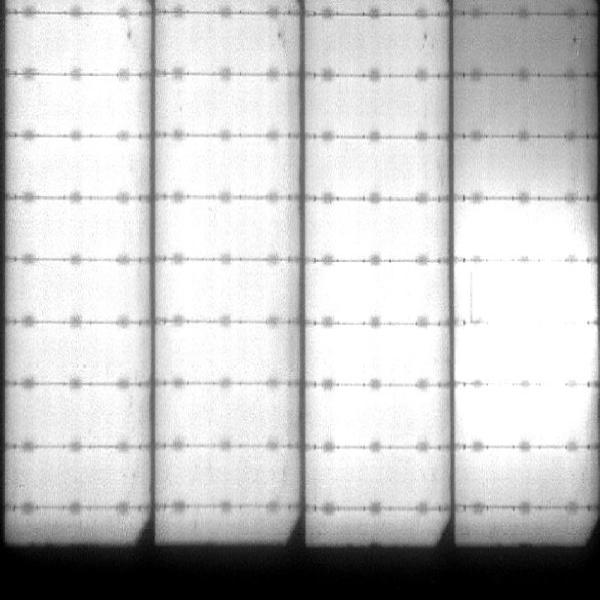hot_spot: (462, 264, 592, 319), (463, 328, 590, 376), (464, 395, 582, 439), (321, 392, 428, 440), (319, 211, 434, 254), (313, 270, 430, 311), (464, 208, 575, 251), (321, 342, 432, 380)
no_electricity: (1, 547, 594, 597)
